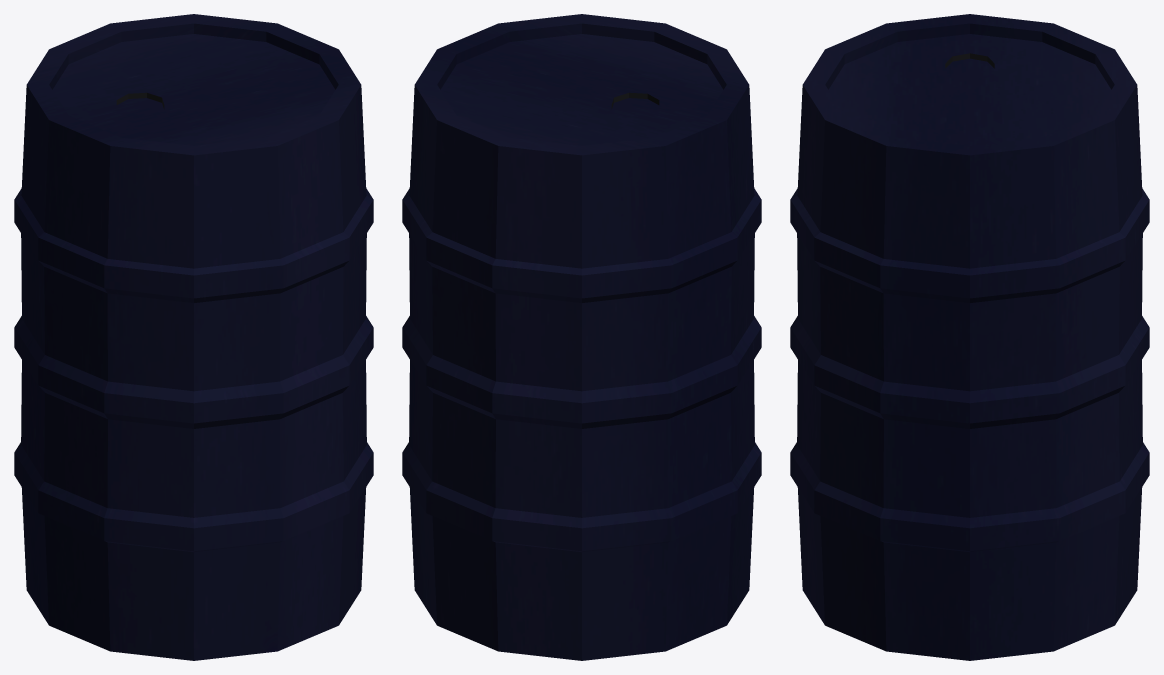
The model's file is CoveredBarrelBlue.glb.
The picture shows the model from 3 angles, left to right: view 1: azimuth 30°, elevation 25°; view 2: azimuth 150°, elevation 25°; view 3: azimuth 270°, elevation 25°; orthographic projection.
Parts seen in each view (by area): view 1: Cylinder; view 2: Cylinder; view 3: Cylinder.
Boxes of the visible parts, bbox=[...] form: Cylinder: bbox=[14, 14, 373, 660]; Cylinder: bbox=[402, 14, 761, 660]; Cylinder: bbox=[790, 14, 1149, 660].
Bounding box in the file's own units: 0.644 × 1 × 0.644.
Materials: 1 (1 with a texture image).
